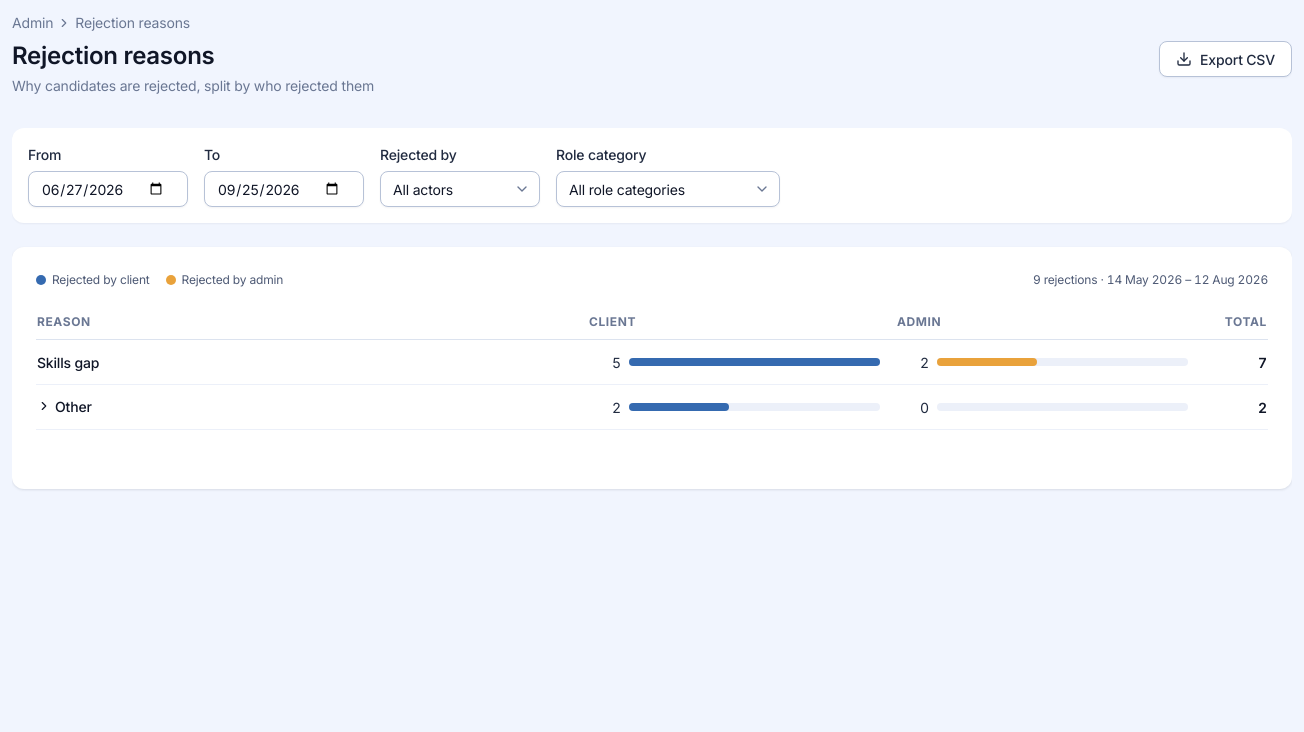
Test: rejection-reasons report page › renders reasons split by actor and expands the Other free texts
Check: the row "Skills gap" is shown, box [36,340,1268,385]
Check: the text "5" is shown, box [612,354,621,370]
What coordinates should you click on to do the following:
click the button "Other"
I would click on:
 (64, 406)
Its box is [37,396,92,416].
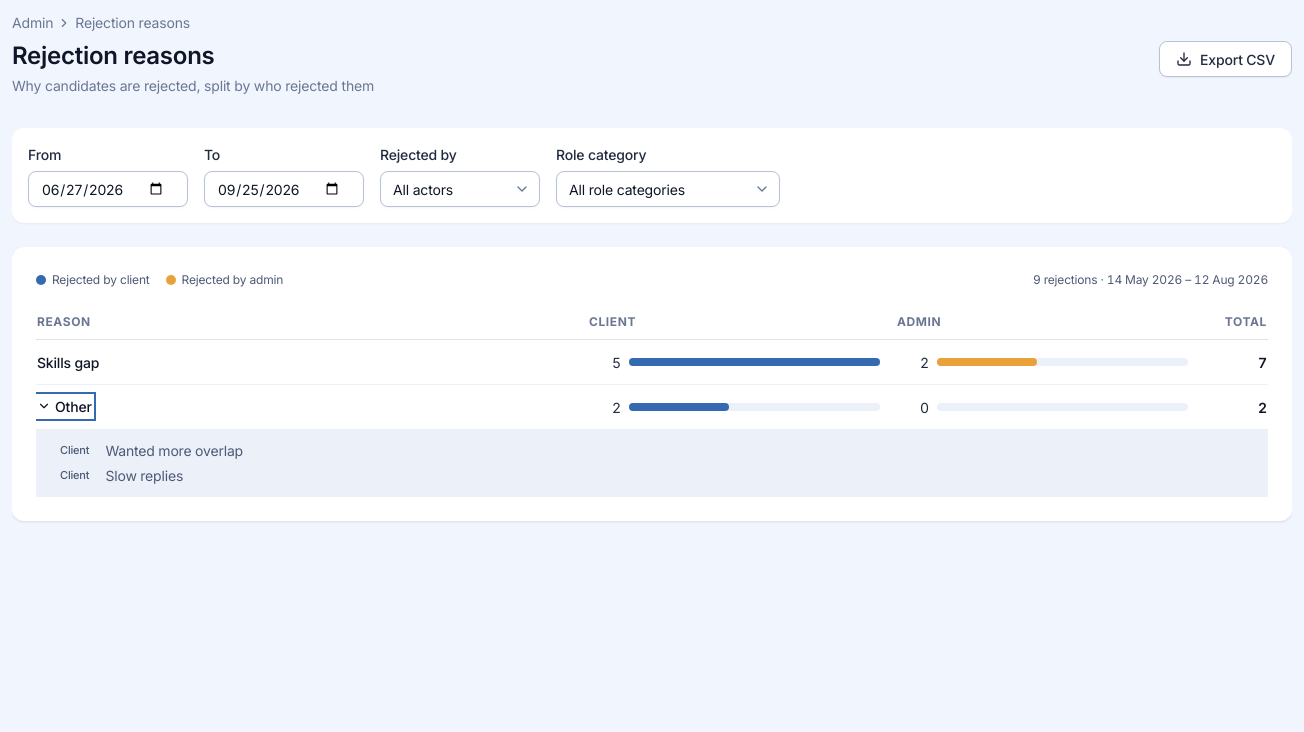
Check: the text "Wanted more overlap" is shown, box [105,440,243,461]
Check: the text "Slow replies" is shown, box [105,465,183,486]
